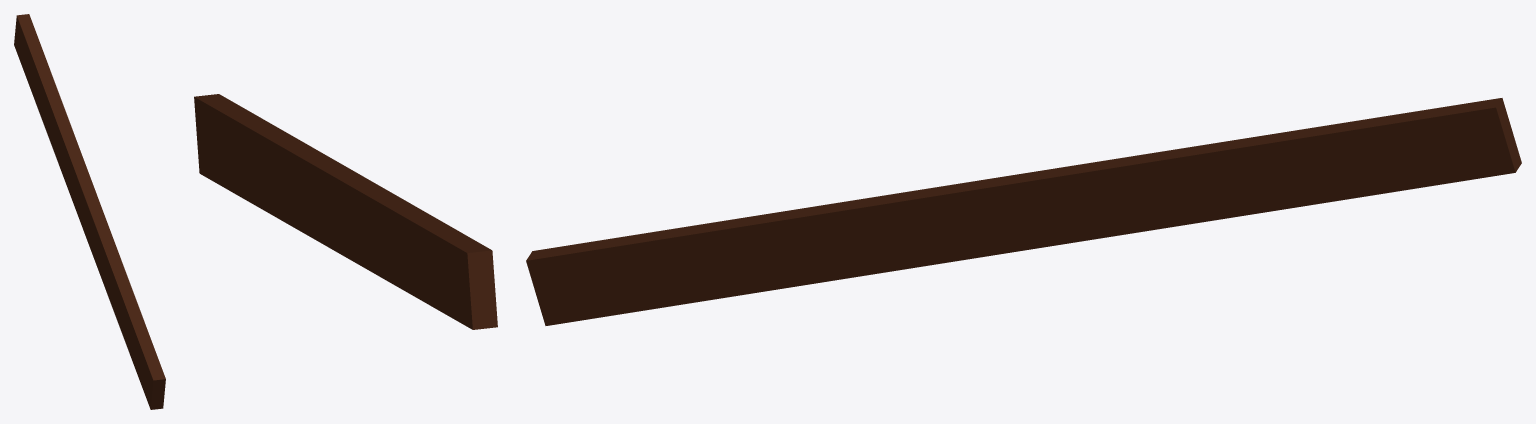
File: wood_h1.glb
The picture shows the model from 3 angles, left to right: view 1: azimuth 30°, elevation 25°; view 2: azimuth 210°, elevation 25°; view 3: azimuth 270°, elevation 25°; orthographic projection. The views are drawn at different scales.
Visible parts, largest first — view 1: Cube.007; view 2: Cube.007; view 3: Cube.007.
Boxes of the visible parts, x1,y1,x2,y2 form: Cube.007: (14, 14, 165, 409); Cube.007: (194, 94, 497, 329); Cube.007: (526, 98, 1521, 325).
Size of the model in its own units: 0.6535 by 0.8031 by 2.2.
